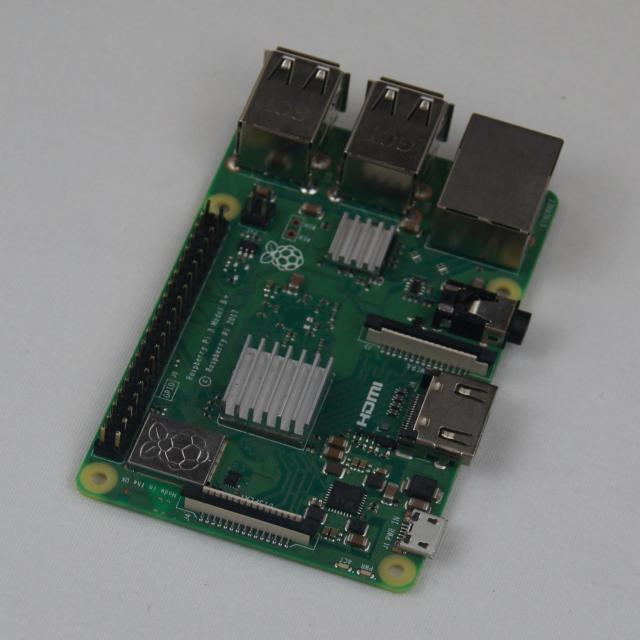Raspberry Pi 3 B-: (78, 49, 563, 590)
